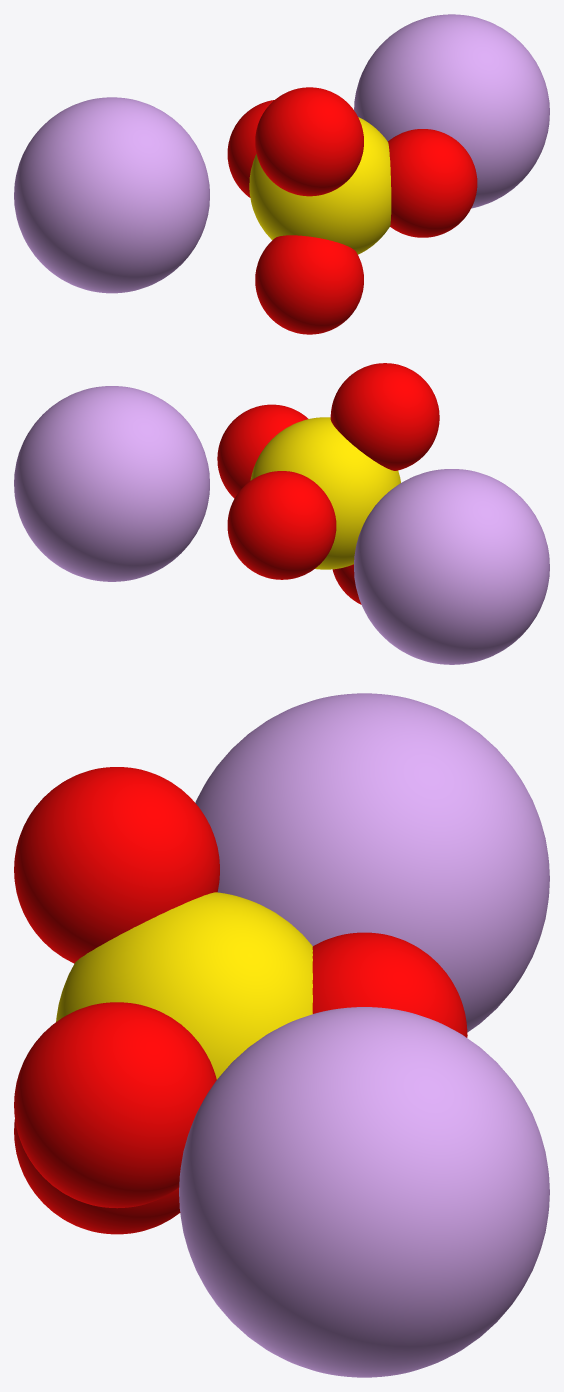
3 views of the same model, one above another, from view 1: azimuth 30°, elevation 25°; view 2: azimuth 150°, elevation 25°; view 3: azimuth 270°, elevation 25° (orthographic). The views are drawn at different scales.
Parts seen in each view (by area): view 1: K2, K1, O3, S, O4, O2, O1; view 2: K1, K2, O1, S, O3, O2, O4; view 3: K1, K2, O2, O3, S, O1, O4.
Part boxes in pixels (<box>): K2: <box>14,97,209,293</box>; K1: <box>354,14,549,208</box>; O3: <box>255,87,363,196</box>; S: <box>249,117,391,254</box>; O4: <box>255,235,363,334</box>; O2: <box>388,129,477,237</box>; O1: <box>227,100,274,197</box>; K1: <box>14,386,209,581</box>; K2: <box>354,469,549,664</box>; O1: <box>227,471,336,579</box>; S: <box>250,417,400,569</box>; O3: <box>330,363,439,470</box>; O2: <box>217,404,308,498</box>; O4: <box>332,564,361,604</box>; K1: <box>179,1007,549,1377</box>; K2: <box>195,693,549,1032</box>; O2: <box>14,1002,216,1208</box>; O3: <box>14,767,219,963</box>; S: <box>56,892,312,1079</box>; O1: <box>312,932,467,1037</box>; O4: <box>14,1119,180,1234</box>.
Size of the model in its own units: 5.4 by 2.4 by 2.6.
